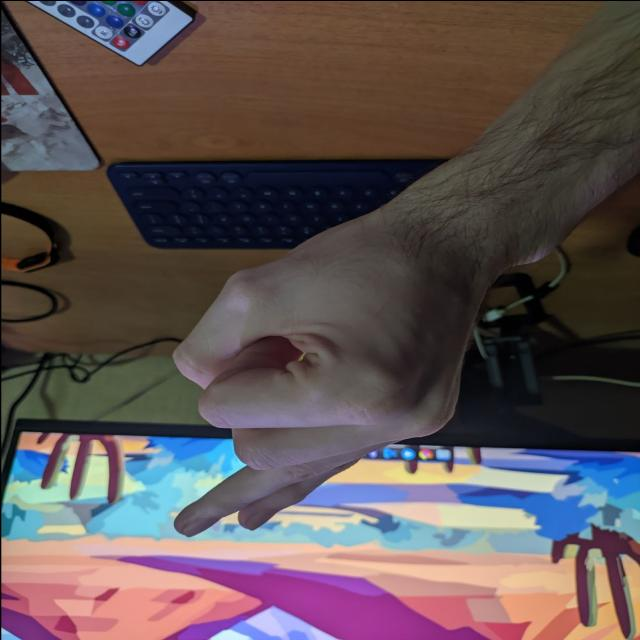i-: (145, 212, 502, 566)
